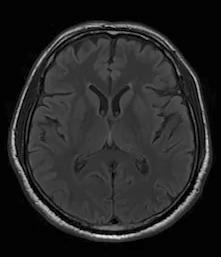Normal_Brain: (21, 17, 221, 257)
